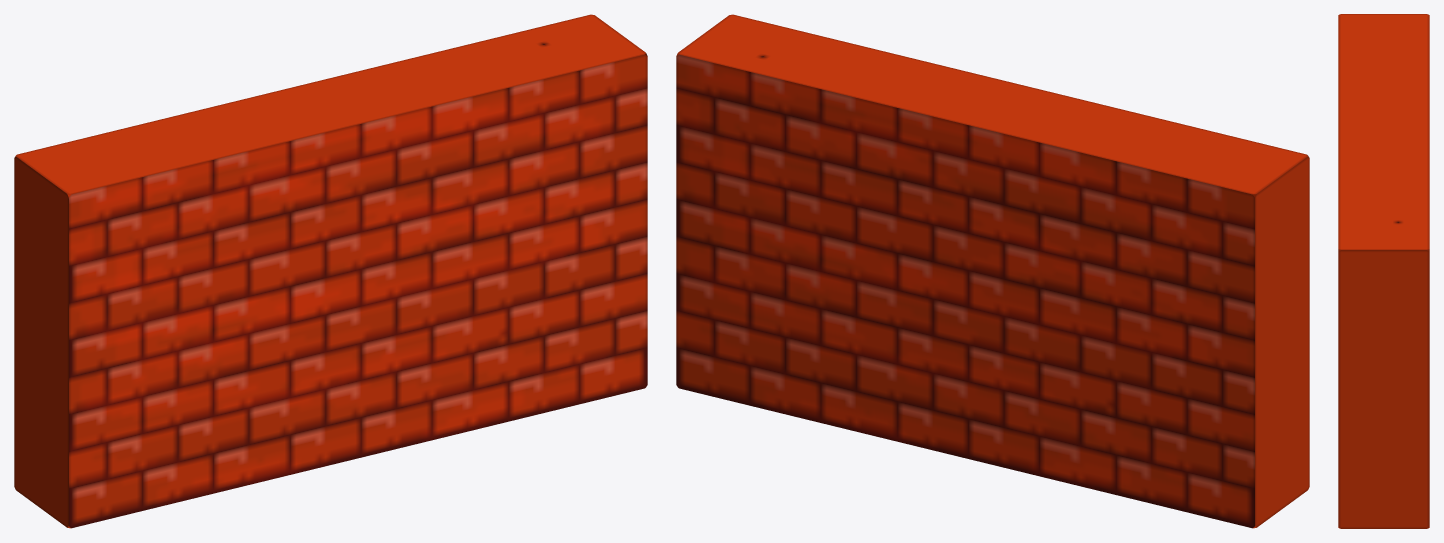
Rendered from Wall.fbx.
3 views of the same model, side by side, from view 1: azimuth 30°, elevation 25°; view 2: azimuth 150°, elevation 25°; view 3: azimuth 270°, elevation 25° (orthographic). The views are drawn at different scales.
Visible parts, largest first — view 1: cube; view 2: cube; view 3: cube.
Boxes of the visible parts, x1,y1,x2,y2 form: cube: (14,14,647,528); cube: (676,14,1309,528); cube: (1338,14,1429,528).
Size of the model in its own units: 612 by 338 by 100.
1 material, 1 textured.
